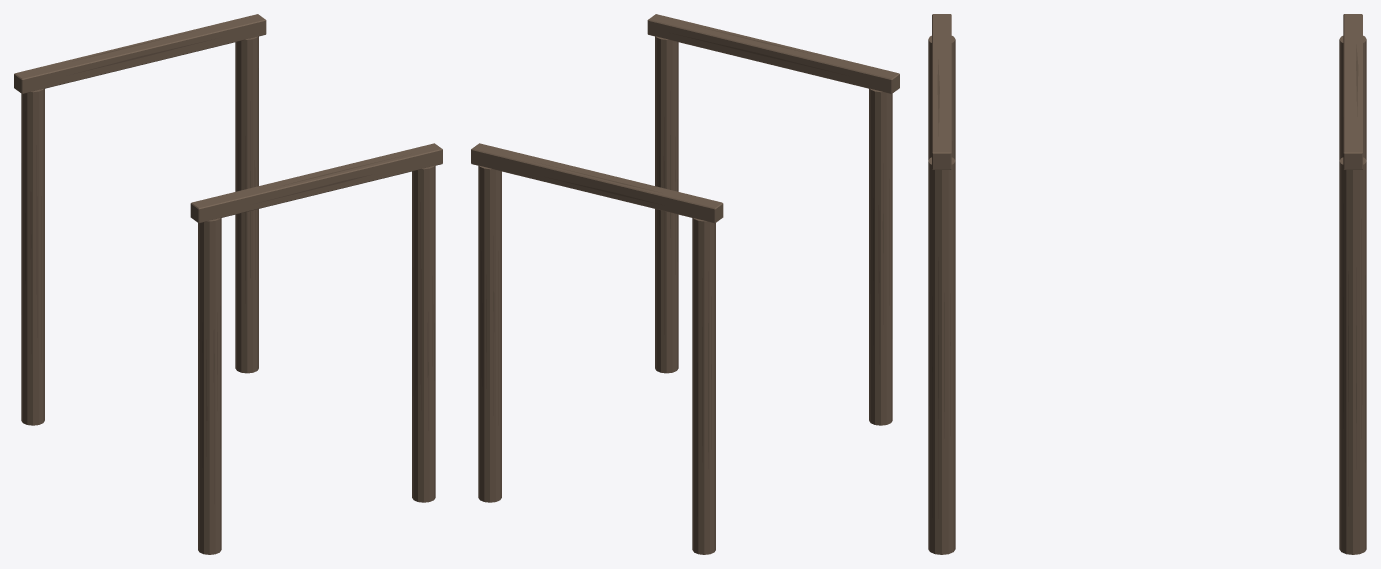
File: main_piles.glb
3 renders of one model, left to right at view 1: azimuth 30°, elevation 25°; view 2: azimuth 150°, elevation 25°; view 3: azimuth 270°, elevation 25°, orthographic. The views are drawn at different scales.
Visible parts, largest first — view 1: main_piles; view 2: main_piles; view 3: main_piles.
Boxes of the visible parts, x1,y1,x2,y2 form: main_piles: (14, 14, 442, 554); main_piles: (471, 14, 899, 554); main_piles: (928, 14, 1366, 554).
Size of the model in its own units: 3.84 by 5.22 by 5.12.
